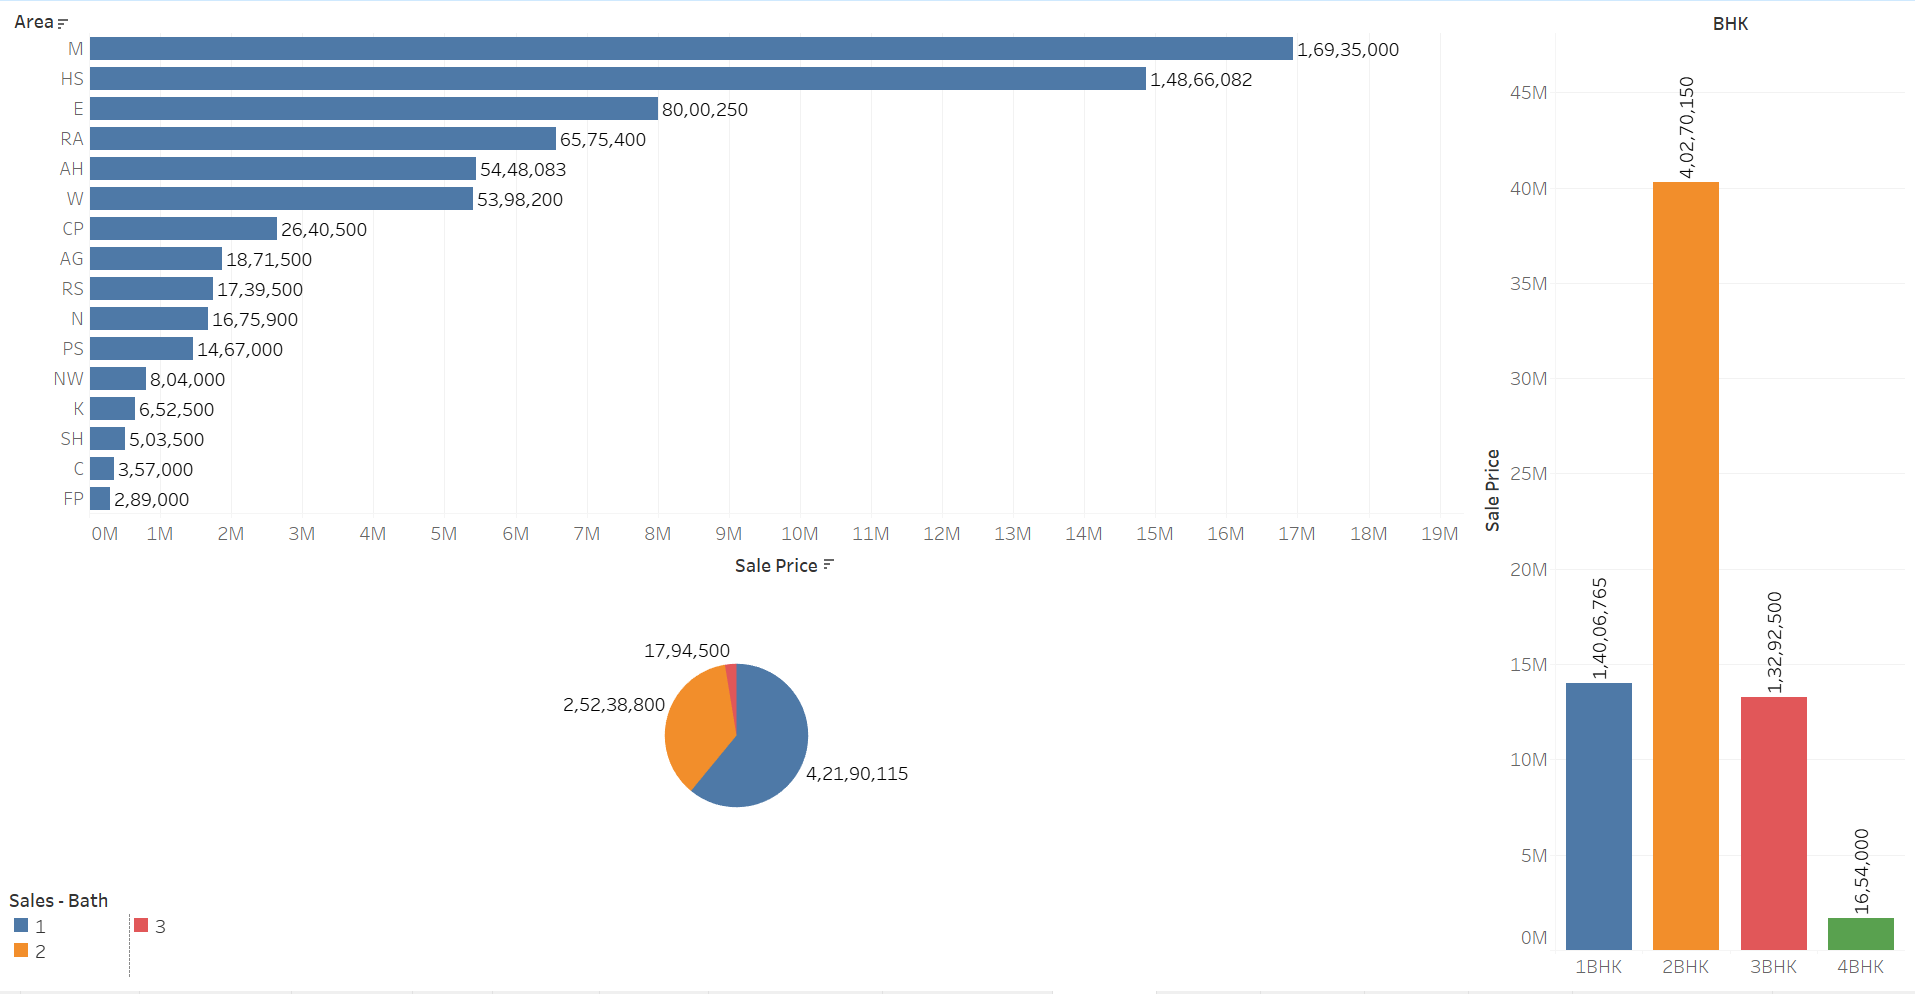

Layout of this report page (visuals, bound fields, positions):
{"tool":"tableau","page":{"name":"Dashboard 1","canvas":[1000,1000],"units":"permille","ordinal":0},"visuals":[{"type":"worksheet","title":"Sales - Area","mark":"Automatic","rows":["Area"],"cols":["Sale Price"],"box":[5.1,10.7,760.7,581.8]},{"type":"worksheet","title":"Sales - BHK","mark":"Automatic","rows":["Sale Price"],"cols":["Calculation_1669991104661057539"],"box":[765.8,10.7,229.1,978.6]},{"type":"worksheet","title":"Sales - Bath","mark":"Pie","box":[5.1,592.5,760.7,296.2]},{"type":"legend","title":"Sales - Bath","param":"[federated.1wa4bno0b08sm0186tgg515smst3].[none:Calculation_1669991104666734596:n","box":[5.1,888.7,760.7,100.5]}]}

Visuals, with their boxes on the dashboard's canvas, which has no fixed pixel size, in thousandths of its width and height (x1, y1, x2, y2). These are canvas units, not pixel positions in the 1915x994 screenshot, which may show the page scaled, cropped or inside an application window:
"Sales - Area" worksheet: 5, 11, 766, 592
"Sales - BHK" worksheet: 766, 11, 995, 989
"Sales - Bath" worksheet (Pie marks): 5, 592, 766, 889
"Sales - Bath" legend: 5, 889, 766, 989
